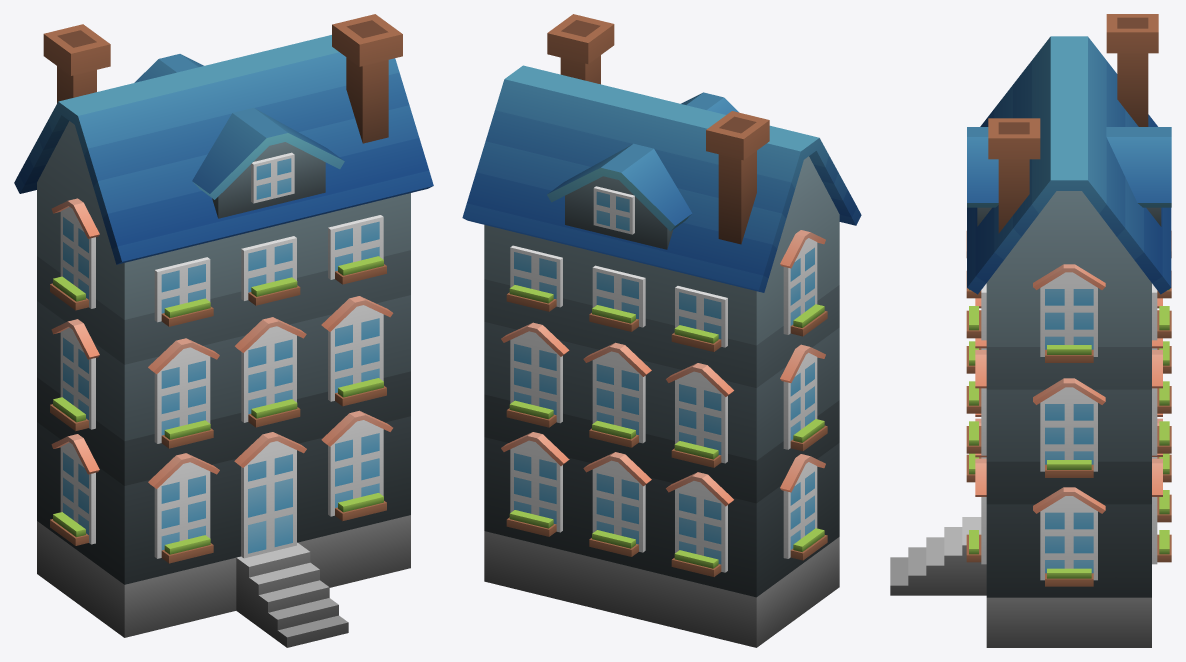
Rendered from three storey house.fbx.
The picture shows the model from 3 angles, left to right: view 1: azimuth 30°, elevation 25°; view 2: azimuth 150°, elevation 25°; view 3: azimuth 270°, elevation 25°; orthographic projection. The views are drawn at different scales.
Visible parts, largest first — view 1: three_storey_house; view 2: three_storey_house; view 3: three_storey_house.
Part boxes in pixels (box(x1,y1,x2,y2)): three_storey_house: box(14, 14, 433, 647); three_storey_house: box(462, 14, 861, 647); three_storey_house: box(890, 14, 1171, 647).
Bounding box in the file's own units: 732 × 1161 × 585.
Materials: 1 (1 with a texture image).
